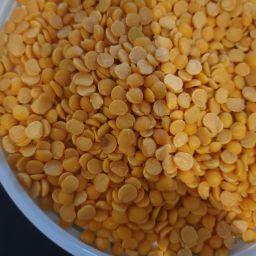Pigeon Pea(toor daal): (7, 1, 256, 256), (14, 63, 256, 178), (129, 10, 256, 221), (42, 18, 131, 234)
